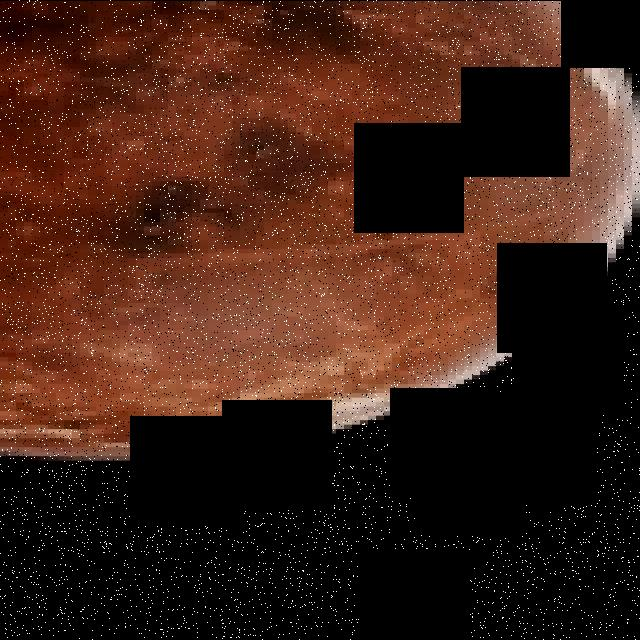Venus: (0, 1, 640, 468)
